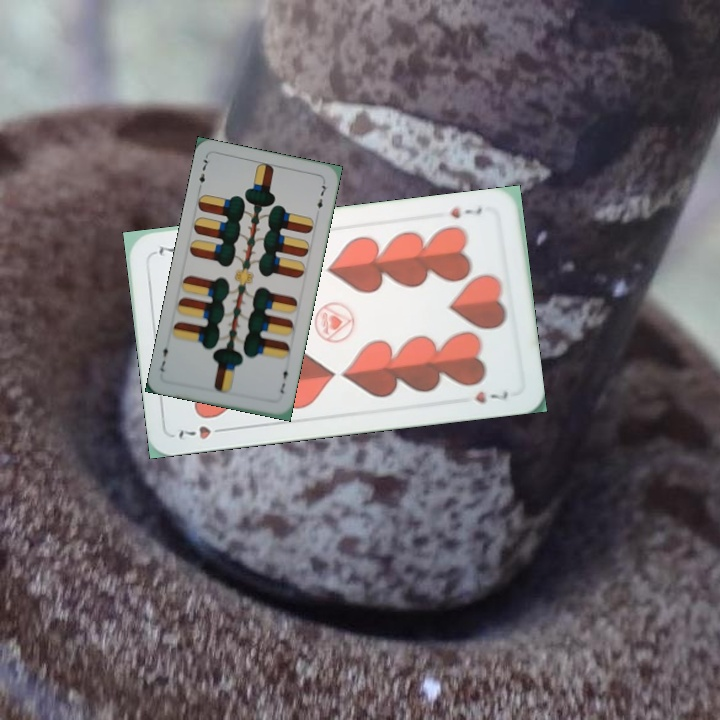E7: (194, 156, 212, 193), (276, 363, 291, 397)
H7: (175, 422, 231, 442), (446, 203, 485, 221)
